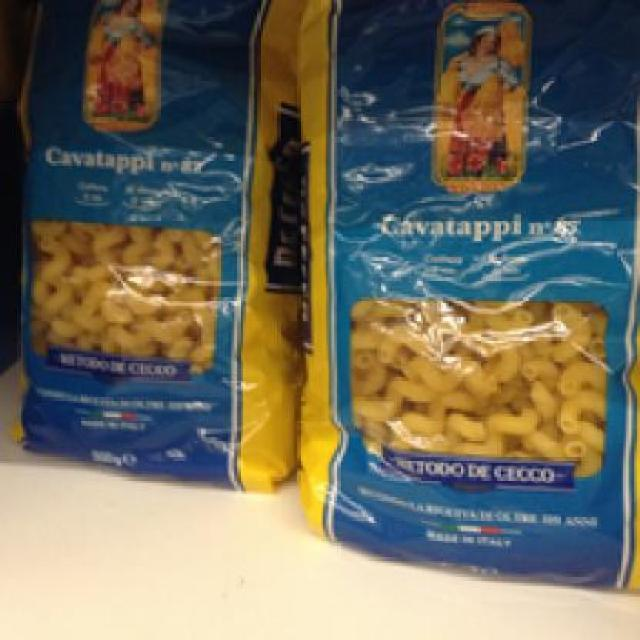Pasta: (292, 0, 638, 589), (16, 0, 292, 486)
